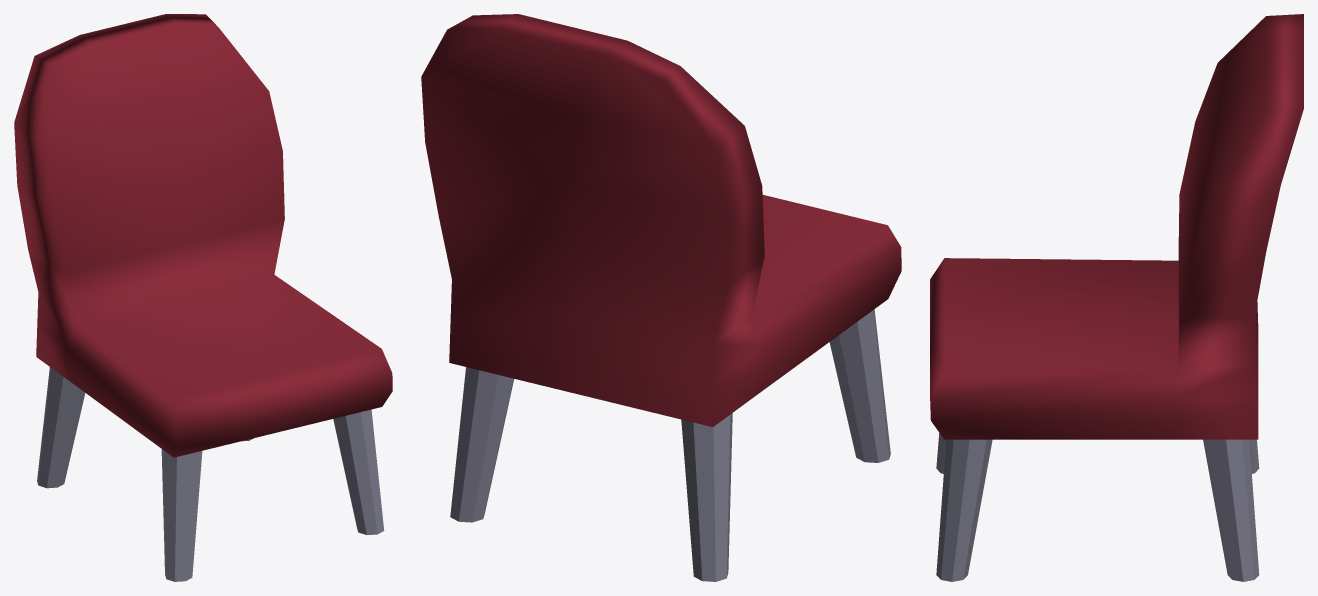
The model's file is Chair-ArmLesschair_Hotel_01.fbx.
3 renders of one model, left to right at view 1: azimuth 30°, elevation 25°; view 2: azimuth 150°, elevation 25°; view 3: azimuth 270°, elevation 25°, orthographic. The views are drawn at different scales.
Parts seen in each view (by area): view 1: Armlesschair; view 2: Armlesschair; view 3: Armlesschair.
Part boxes in pixels (x1,y1,x2,y2): Armlesschair: (14,14,392,581); Armlesschair: (421,14,901,581); Armlesschair: (930,14,1303,581).
Bounding box in the file's own units: 0.6899 × 1.14 × 0.8223.
